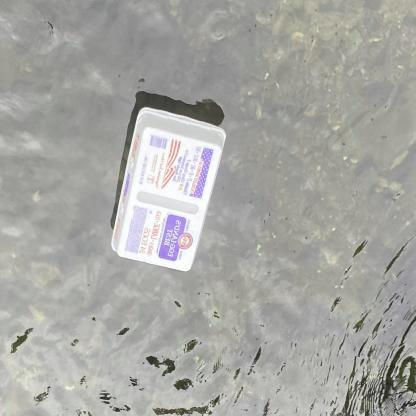Plastic: (108, 101, 228, 276)
